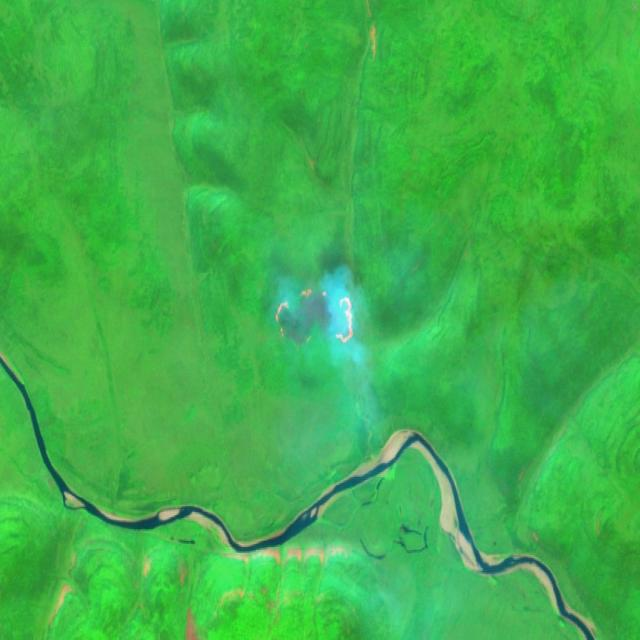fire: (270, 274, 366, 368)
